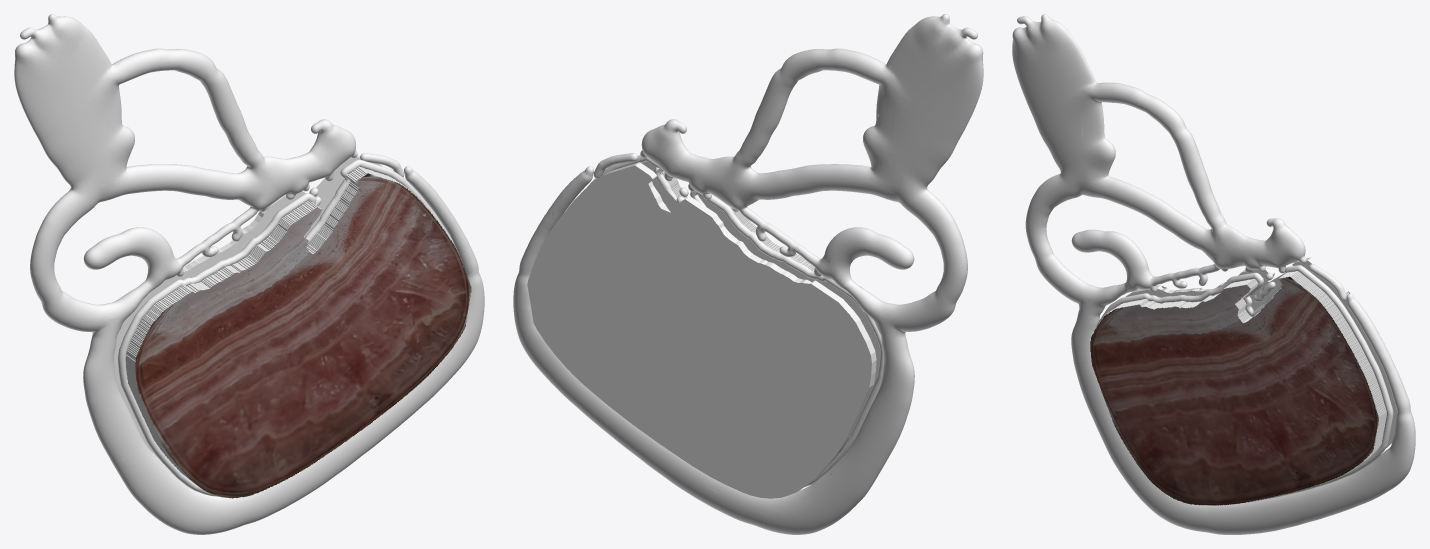
3 renders of one model, left to right at view 1: azimuth 30°, elevation 25°; view 2: azimuth 150°, elevation 25°; view 3: azimuth 330°, elevation 25°, orthographic. The views are drawn at different scales.
Parts seen in each view (by area): view 1: joya; view 2: joya; view 3: joya.
Boxes of the visible parts, x1,y1,x2,y2 form: joya: [14, 14, 484, 534]; joya: [513, 14, 983, 534]; joya: [1012, 14, 1415, 534].
Bounding box in the file's own units: 0.0353 × 0.0402 × 0.00325.
Materials: 3 (1 with a texture image).
